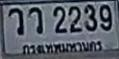2: (53, 5, 66, 32), (68, 5, 81, 31)
3: (84, 4, 96, 30)
9: (99, 4, 111, 30)
A37: (8, 7, 23, 34), (27, 6, 42, 33)
